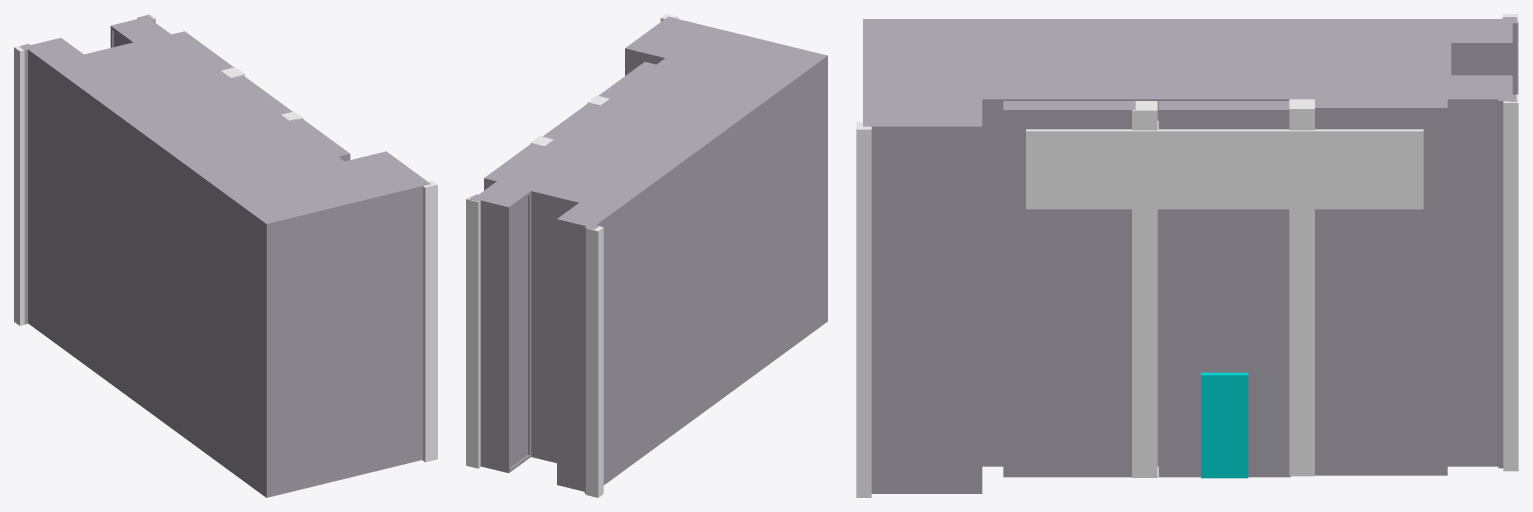
The model's file is town3.fbx.
3 views of the same model, side by side, from view 1: azimuth 30°, elevation 25°; view 2: azimuth 150°, elevation 25°; view 3: azimuth 270°, elevation 25° (orthographic). The views are drawn at different scales.
Visible parts, largest first — view 1: pCube17, pCube36, pCube35, pCube20, pCube18, pCube19; view 2: pCube17, pCube35, pCube34, pCube20, pCube18, pCube19; view 3: pCube17, pCube20, pCube18, pCube19, pCube23, pCube44, pCube43, pCube36, pCube34, pCube21.
Part boxes in pixels (box(x1,y1,x2,y2)): pCube17: box(20, 15, 430, 497); pCube36: box(422, 180, 437, 462); pCube35: box(14, 44, 28, 325); pCube20: box(163, 31, 233, 72); pCube18: box(289, 118, 350, 161); pCube19: box(232, 75, 292, 114); pCube17: box(469, 16, 827, 493); pCube35: box(586, 226, 603, 497); pCube34: box(466, 195, 480, 468); pCube20: box(484, 143, 544, 190); pCube18: box(598, 62, 655, 98); pCube19: box(543, 103, 599, 139); pCube17: box(863, 17, 1517, 493); pCube20: box(1315, 94, 1447, 475); pCube18: box(1003, 101, 1135, 477); pCube19: box(1158, 101, 1290, 477); pCube23: box(1026, 120, 1423, 209); pCube44: box(1289, 99, 1314, 476); pCube43: box(1132, 101, 1157, 477); pCube36: box(856, 121, 871, 497); pCube34: box(1503, 94, 1518, 471); pCube21: box(1201, 372, 1248, 478).
Bounding box in the file's own units: 6 × 8.92 × 14.5.
